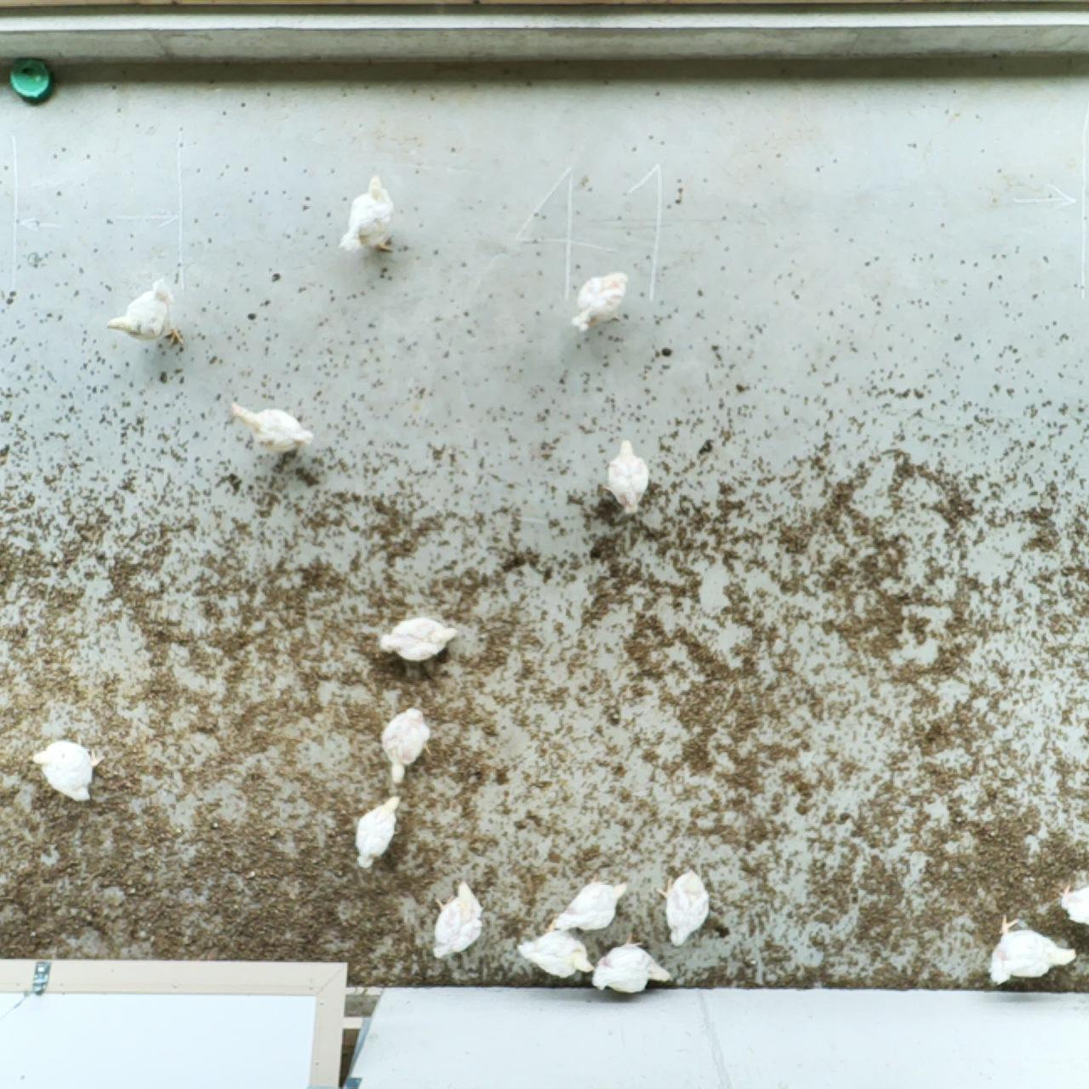chicken: (985, 911, 1079, 989), (102, 275, 189, 353), (335, 169, 405, 263), (27, 727, 107, 806), (589, 932, 677, 995), (652, 865, 713, 951), (227, 399, 315, 458), (550, 871, 630, 935), (429, 879, 488, 961), (377, 704, 435, 786), (569, 267, 632, 337), (597, 437, 652, 516), (378, 615, 461, 667), (352, 792, 405, 873), (515, 927, 595, 980), (1051, 879, 1089, 927)
